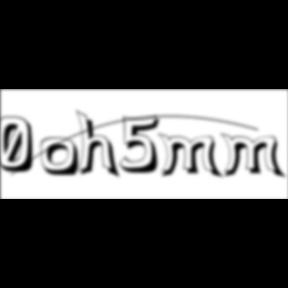0: (0, 115, 42, 174)
5: (120, 114, 166, 176)
h: (76, 108, 124, 182)
m: (158, 132, 226, 181), (220, 132, 288, 181)
o: (40, 137, 82, 179)
